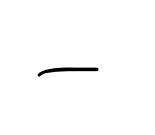minus: (37, 65, 99, 79)
